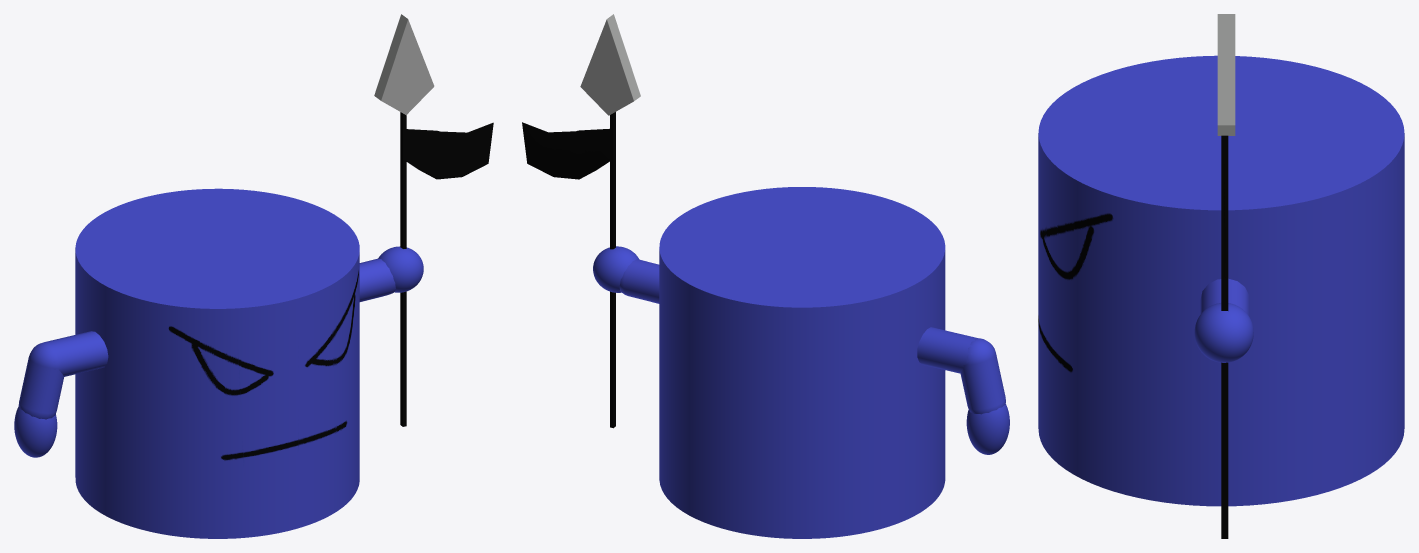
File: cylinderCommander.fbx
3 views of the same model, side by side, from view 1: azimuth 30°, elevation 25°; view 2: azimuth 150°, elevation 25°; view 3: azimuth 270°, elevation 25° (orthographic). The views are drawn at different scales.
Parts seen in each view (by area): view 1: root (×4), node_id34 (×2), node_id65 (×2), node_id45; view 2: root (×4), node_id34 (×2), node_id65 (×2), node_id45; view 3: root (×3), node_id65 (×2).
Part boxes in pixels (x1,y1,x2,y2): root (×4): (75, 14, 493, 538); node_id34 (×2): (18, 331, 108, 419); node_id65 (×2): (359, 246, 423, 301); node_id45: (14, 406, 57, 457); root (×4): (522, 14, 945, 538); node_id34 (×2): (917, 327, 1005, 414); node_id65 (×2): (593, 246, 659, 303); node_id45: (966, 404, 1009, 454); root (×3): (1038, 14, 1404, 538); node_id65 (×2): (1194, 278, 1253, 362).
Bounding box in the file's own units: 0.8682 × 0.7178 × 0.446.
Materials: 9 (5 with a texture image).
